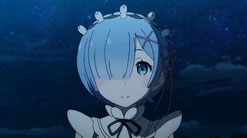rem: (62, 7, 185, 138)
